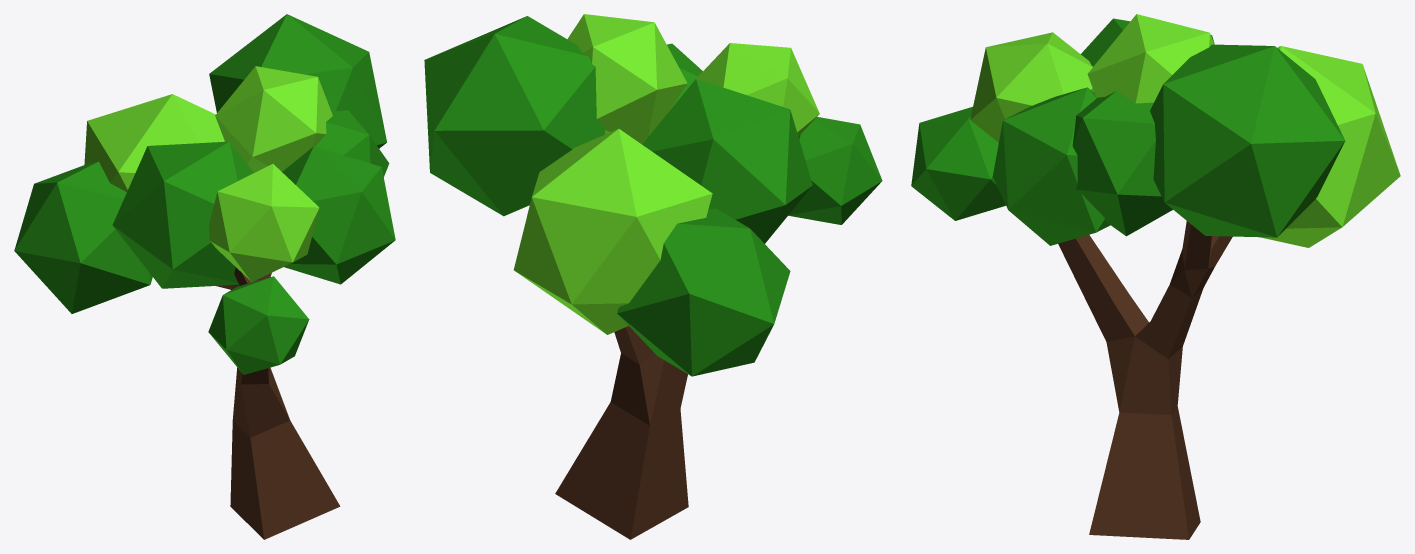
File: SM_Tree_Oak.fbx
3 views of the same model, side by side, from view 1: azimuth 30°, elevation 25°; view 2: azimuth 150°, elevation 25°; view 3: azimuth 270°, elevation 25° (orthographic). The views are drawn at different scales.
Visible parts, largest first — view 1: Icosphere.006, Icosphere.003, Cube, Icosphere.007, Icosphere.002, Icosphere.001, Icosphere.008, Icosphere.005, Icosphere, Icosphere.004; view 2: Icosphere.002, Icosphere.005, Icosphere.003, Cube, Icosphere.006, Icosphere.008, Icosphere, Icosphere.001, Icosphere.007; view 3: Icosphere.002, Cube, Icosphere.007, Icosphere.005, Icosphere.004, Icosphere.001, Icosphere, Icosphere.008, Icosphere.006.
Boxes of the visible parts, x1,y1,x2,y2 form: Icosphere.006: (112, 141, 253, 288); Icosphere.003: (14, 161, 152, 313); Cube: (216, 267, 340, 539); Icosphere.007: (282, 146, 395, 284); Icosphere.002: (209, 14, 386, 148); Icosphere.001: (208, 164, 319, 281); Icosphere.008: (215, 66, 332, 172); Icosphere.005: (84, 94, 224, 191); Icosphere: (208, 276, 309, 374); Icosphere.004: (315, 110, 389, 176); Icosphere.002: (424, 16, 604, 216); Icosphere.005: (513, 128, 712, 334); Icosphere.003: (617, 208, 790, 376); Cube: (555, 326, 688, 539); Icosphere.006: (642, 79, 812, 243); Icosphere.008: (567, 14, 687, 144); Icosphere: (788, 117, 882, 224); Icosphere.001: (693, 43, 819, 135); Icosphere.007: (667, 43, 702, 109); Icosphere.002: (1150, 44, 1345, 237); Cube: (1058, 221, 1232, 539); Icosphere.007: (992, 87, 1110, 245); Icosphere.005: (1261, 46, 1400, 247); Icosphere.004: (1072, 91, 1172, 236); Icosphere.001: (970, 32, 1093, 142); Icosphere: (911, 106, 1005, 220); Icosphere.008: (1087, 14, 1213, 103); Icosphere.006: (1081, 18, 1214, 92).
Bounding box in the file's own units: 539 × 496 × 640.
